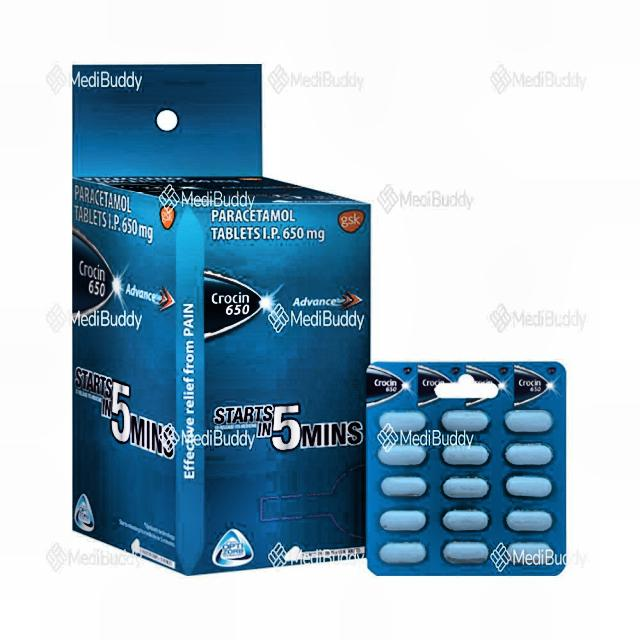Crocin: (70, 226, 142, 348), (201, 271, 263, 356)
